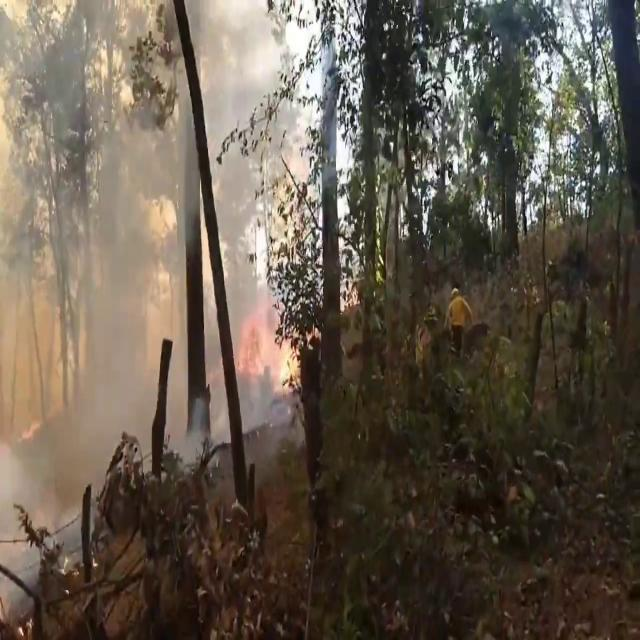Smoke: (1, 2, 308, 526)
